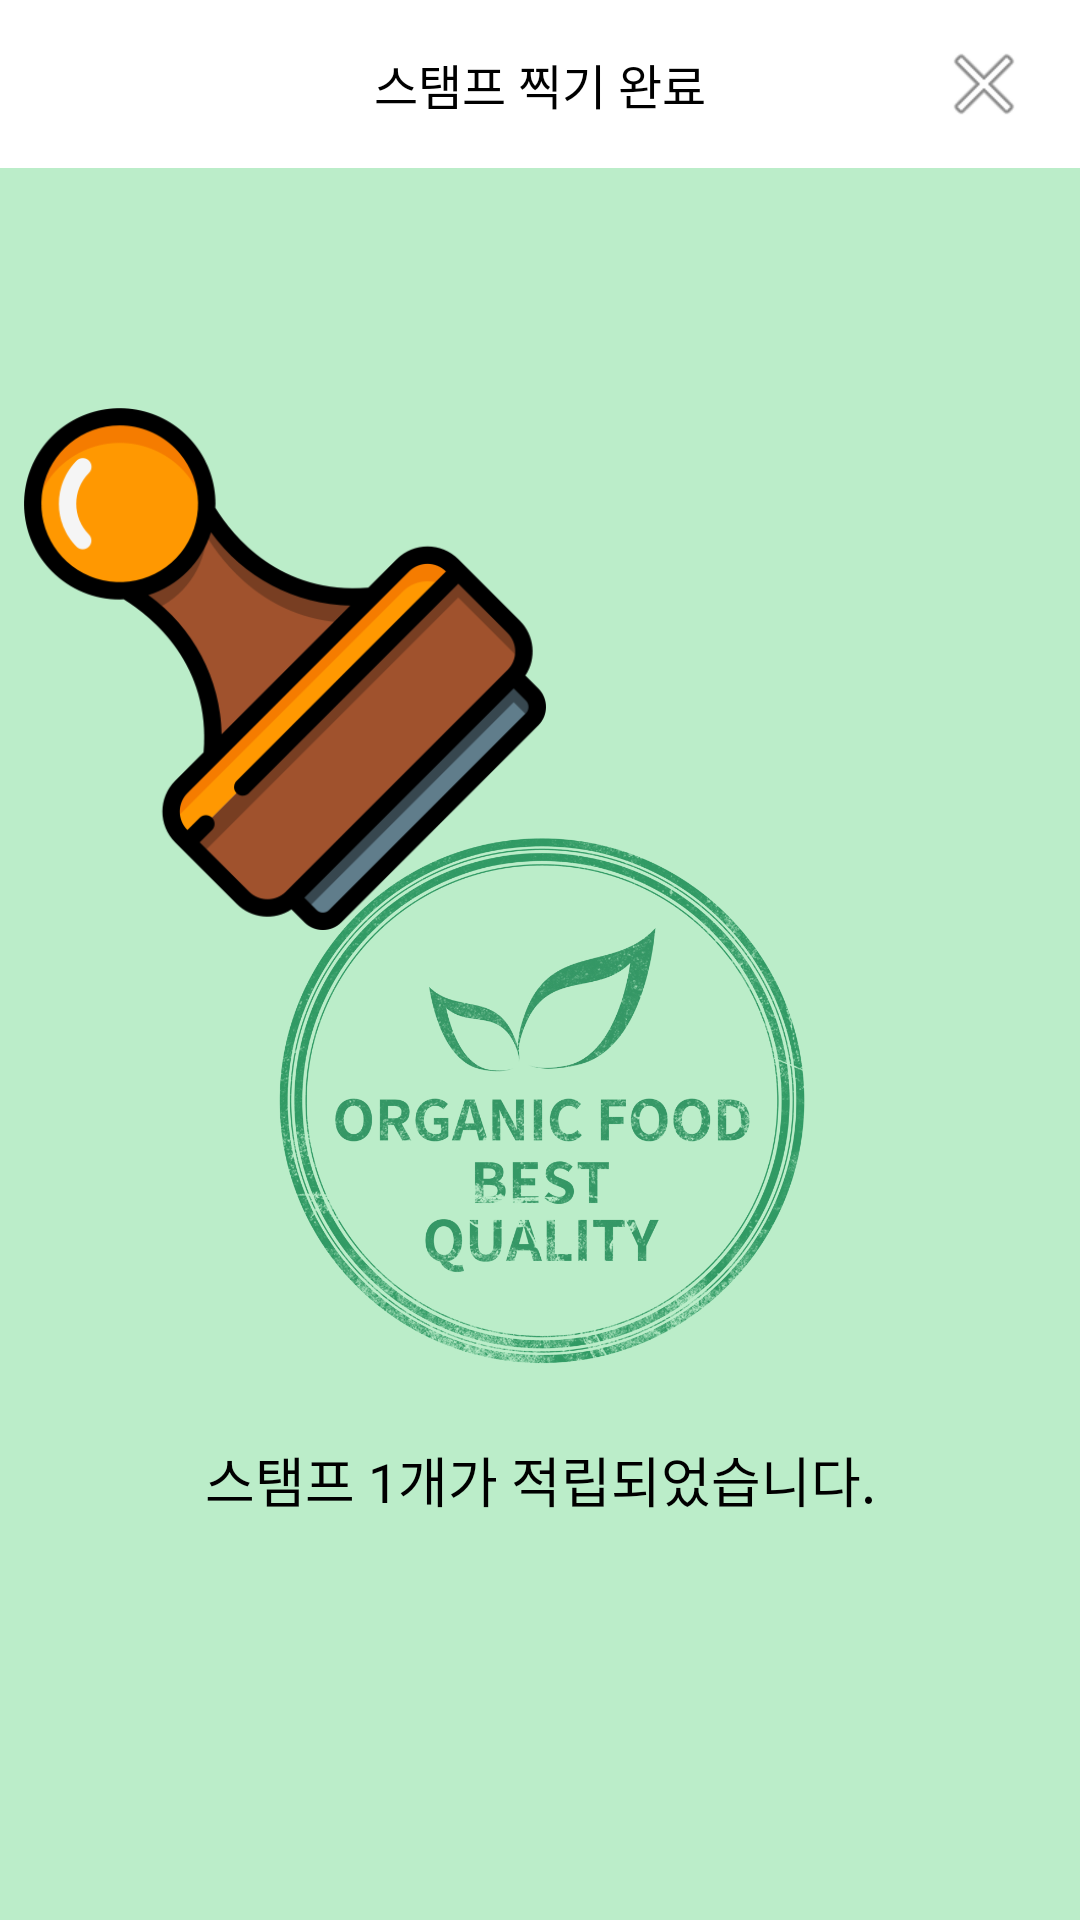

Named icons in this screenshot (1080 × 1920) and their bounding boxes, (x1, y1, x2, y2):
close clear cancel: (954, 54, 1014, 114)
